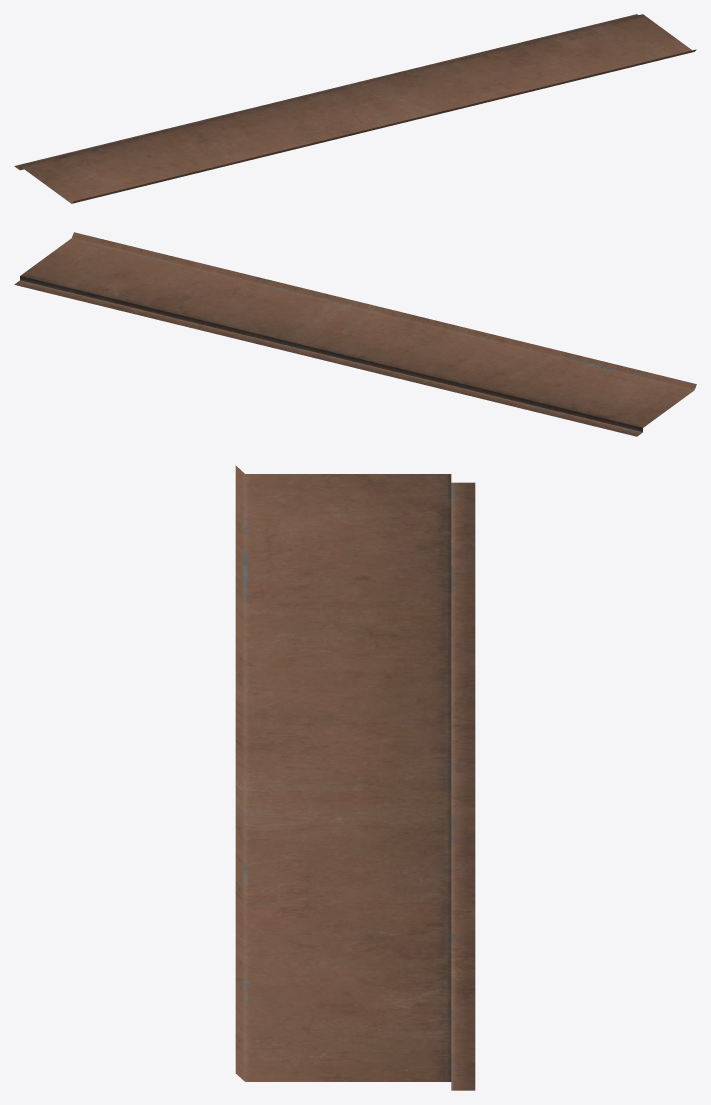
File: dado_standard_standard_01.gltf
The picture shows the model from 3 angles, top to bottom: view 1: azimuth 30°, elevation 25°; view 2: azimuth 150°, elevation 25°; view 3: azimuth 270°, elevation 25°; orthographic projection. The views are drawn at different scales.
Parts seen in each view (by area): view 1: dado_standard_standard_01; view 2: dado_standard_standard_01; view 3: dado_standard_standard_01.
Boxes of the visible parts, bbox=[...] form: dado_standard_standard_01: bbox=[14, 14, 696, 203]; dado_standard_standard_01: bbox=[14, 232, 696, 436]; dado_standard_standard_01: bbox=[235, 465, 475, 1090].
Bounding box in the file's own units: 3 × 0.04 × 0.5.
Materials: 1 (1 with a texture image).
